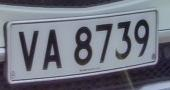3: (112, 18, 135, 64)
7: (94, 19, 117, 68)
8: (72, 22, 95, 71)
9: (131, 15, 151, 60)
A: (41, 25, 67, 74)
V: (17, 26, 41, 74)
